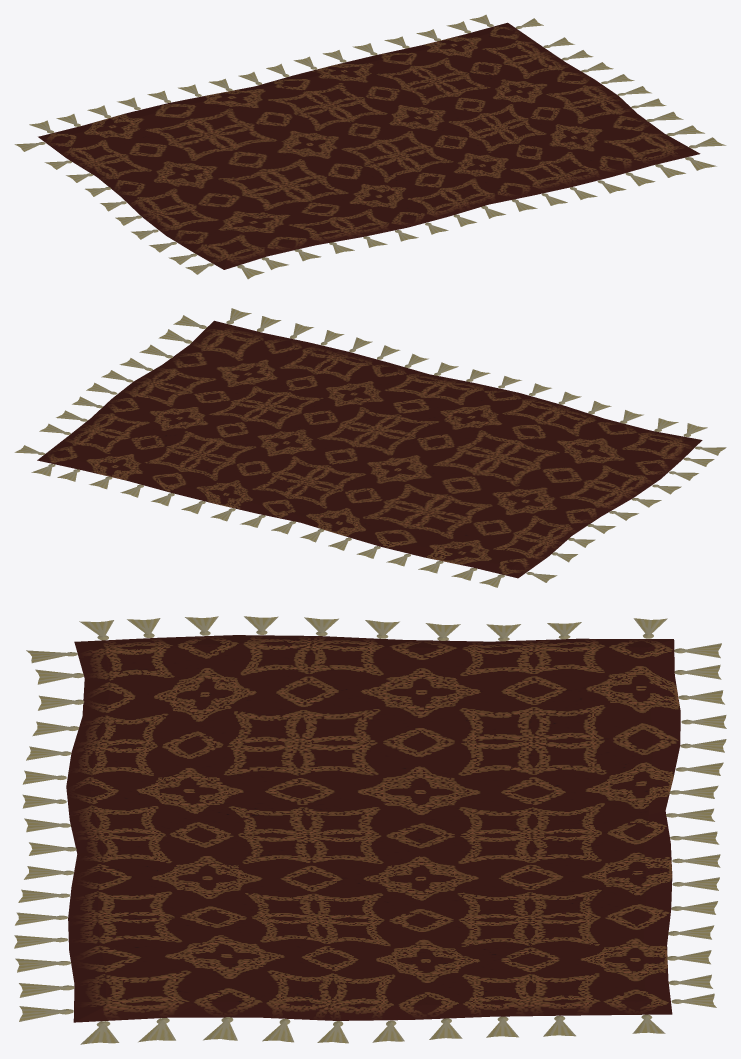
The model's file is CarpetS.fbx.
3 renders of one model, top to bottom at view 1: azimuth 30°, elevation 25°; view 2: azimuth 150°, elevation 25°; view 3: azimuth 270°, elevation 25°, orthographic. The views are drawn at different scales.
Parts seen in each view (by area): view 1: Plane; view 2: Plane; view 3: Plane.
Boxes of the visible parts, x1,y1,x2,y2 form: Plane: (14,14,726,279); Plane: (14,308,726,587); Plane: (14,616,726,1044).
Bounding box in the file's own units: 1285 × 5.71 × 903.
